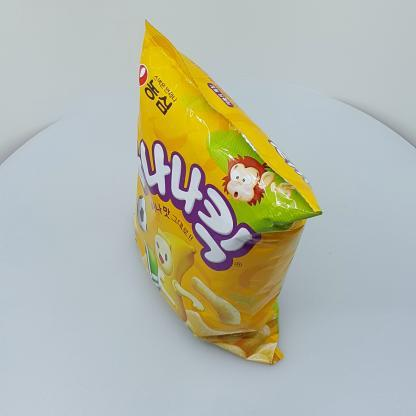Plastic Packaging: (125, 14, 327, 378)
